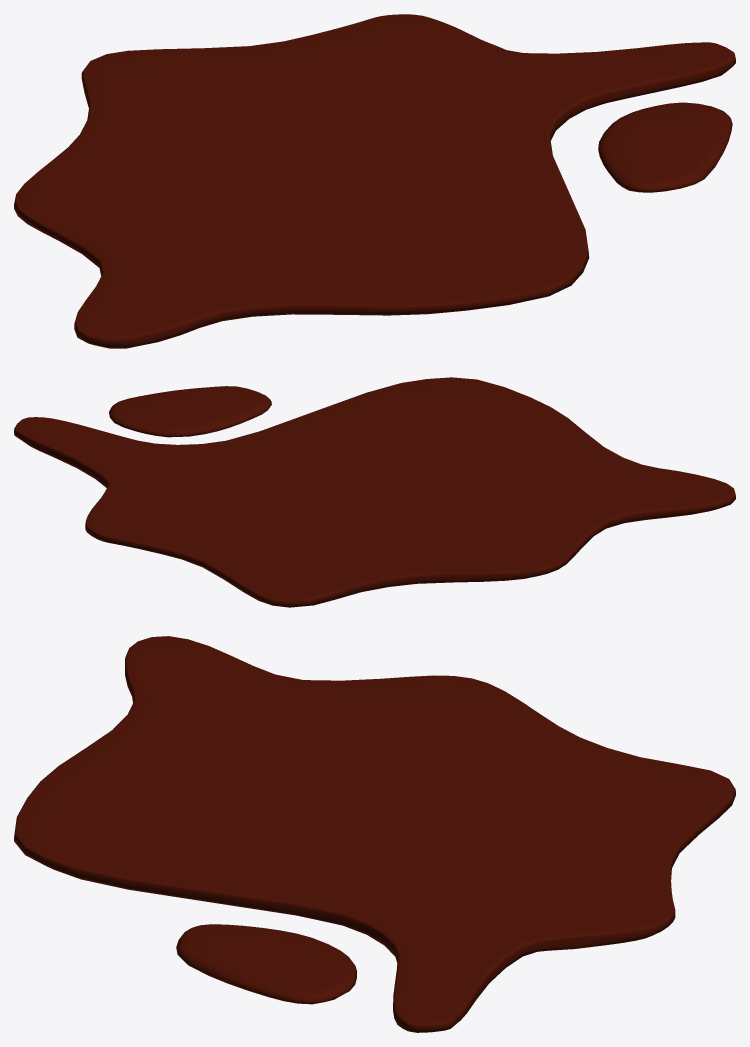
File: soySauce1.fbx
3 views of the same model, one above another, from view 1: azimuth 30°, elevation 25°; view 2: azimuth 150°, elevation 25°; view 3: azimuth 270°, elevation 25° (orthographic). The views are drawn at different scales.
Parts seen in each view (by area): view 1: pPlane13; view 2: pPlane13; view 3: pPlane13.
Part boxes in pixels (x1,y1,x2,y2): pPlane13: (14, 14, 735, 348); pPlane13: (14, 377, 735, 607); pPlane13: (14, 636, 735, 1032).
Bounding box in the file's own units: 11385 × 183 × 8915.
